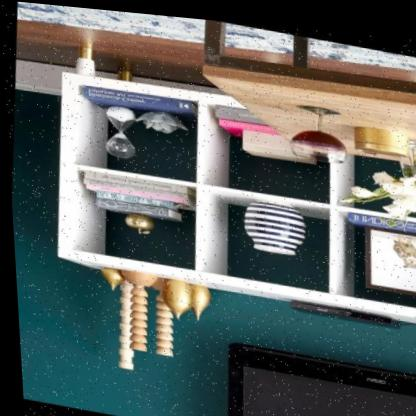Shelf: (33, 34, 416, 329)
Table: (171, 13, 416, 166)
